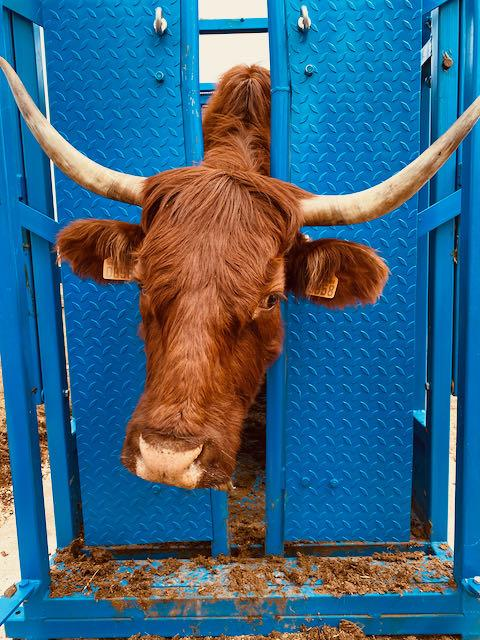muzzles: (119, 428, 224, 494)
